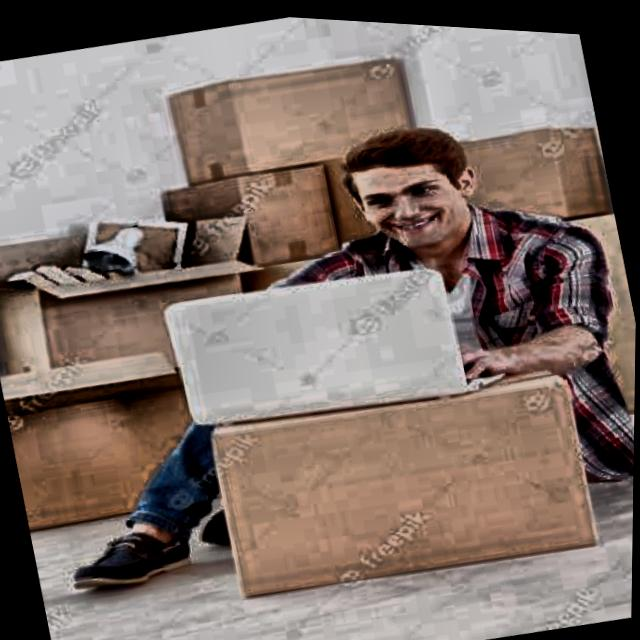Cardbox: (183, 328, 617, 632), (141, 20, 437, 202), (0, 193, 250, 324), (161, 146, 349, 282)
